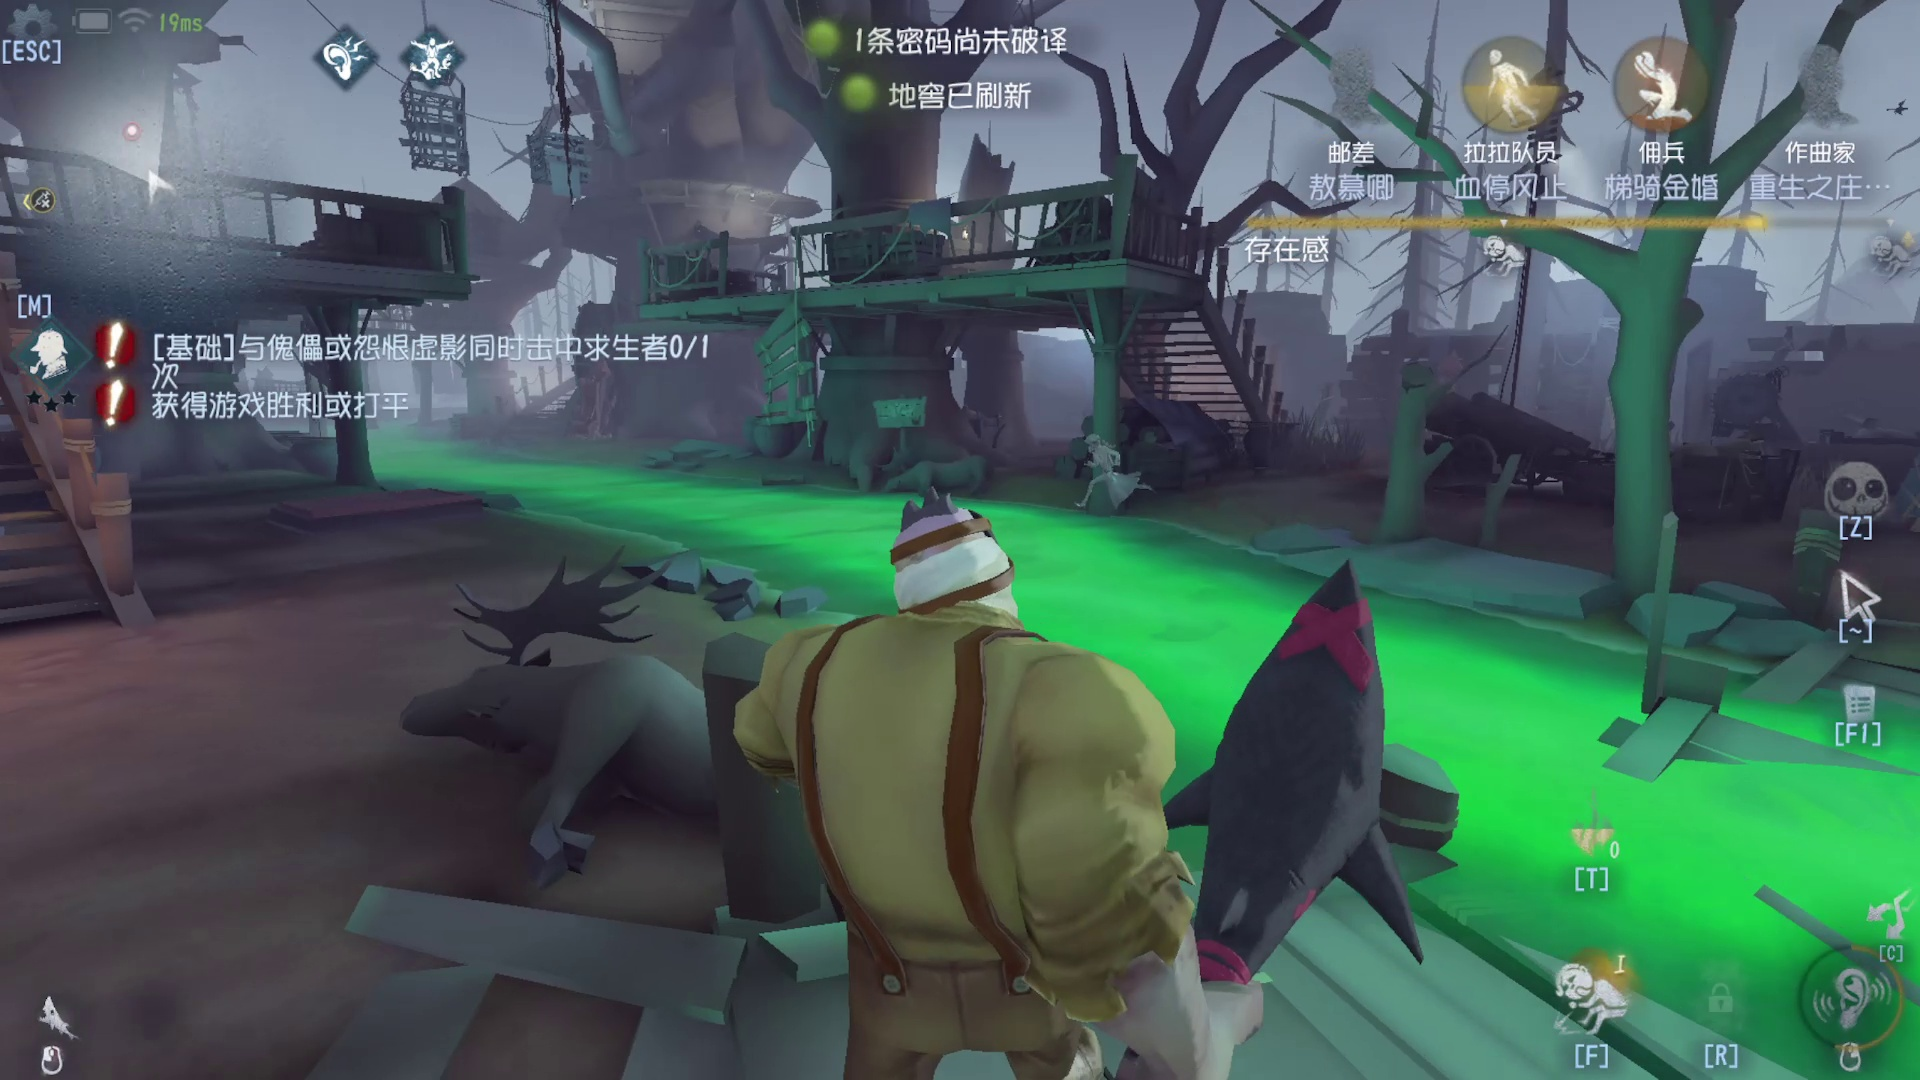求生者: (1054, 433, 1139, 525)
